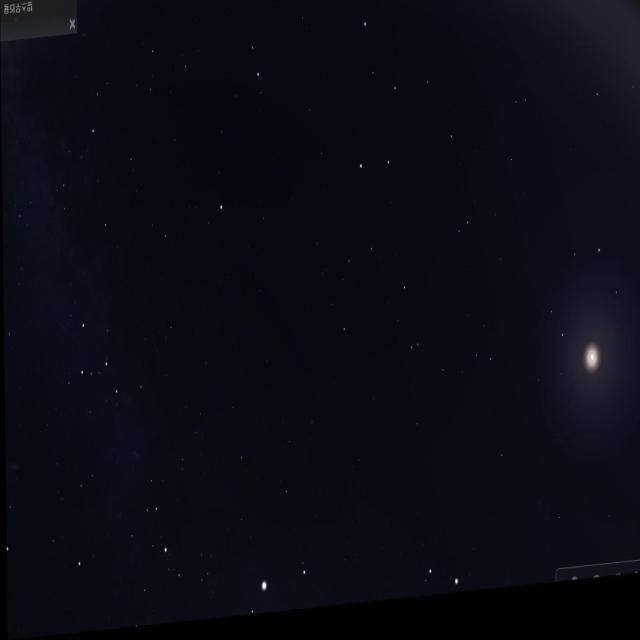moon: (550, 303, 630, 452)
ursa_major: (332, 0, 398, 216)
